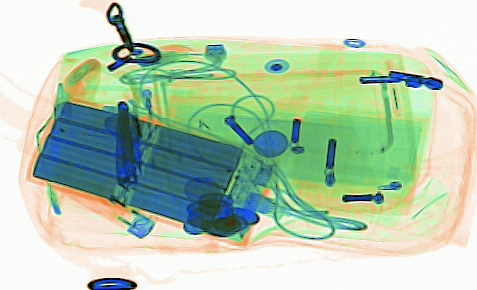lighter: (49, 172, 155, 240)
powerbank: (27, 95, 279, 249)
